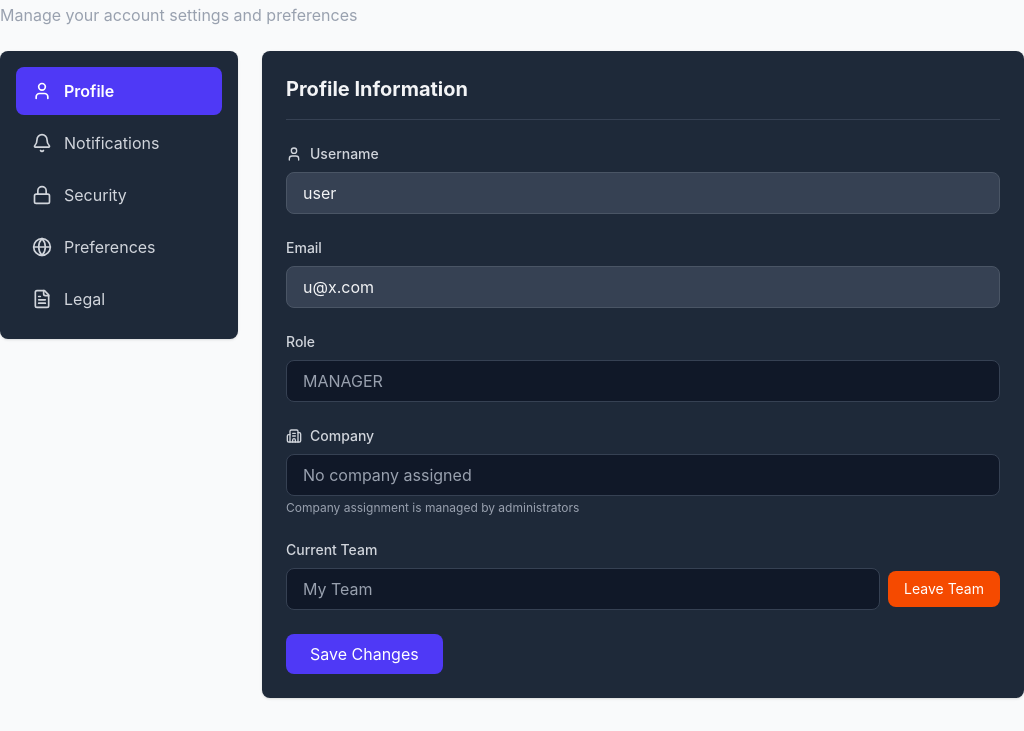
Test case: SettingsPage behavior › renders manager count / team warnings in danger zone
This screenshot has width=1024, height=731.
What coordinates should you click on to do the following:
click the button "Security"
I would click on:
 (119, 195)
Its box is [16,171,222,219].
(page scrolled)
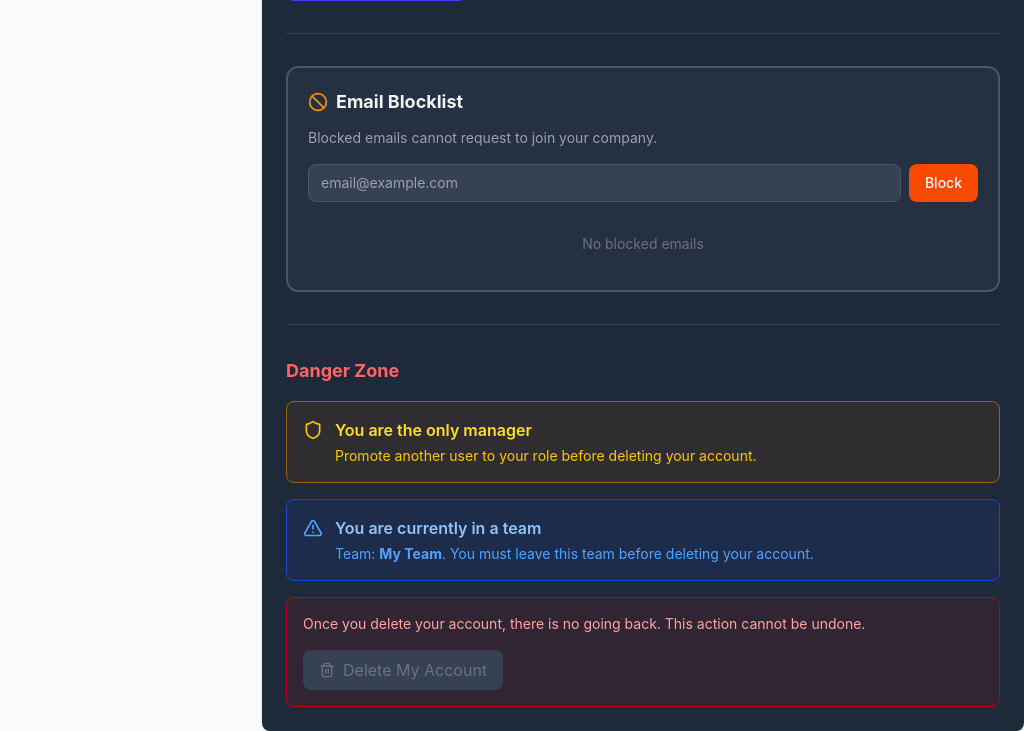
Check: the text "You are the only manager" is shown, box [335,420,532,440]
Check: the text "You are currently in a team" is shown, box [335,518,541,538]
Check: the text "My Team" is shown, box [379,545,442,562]
